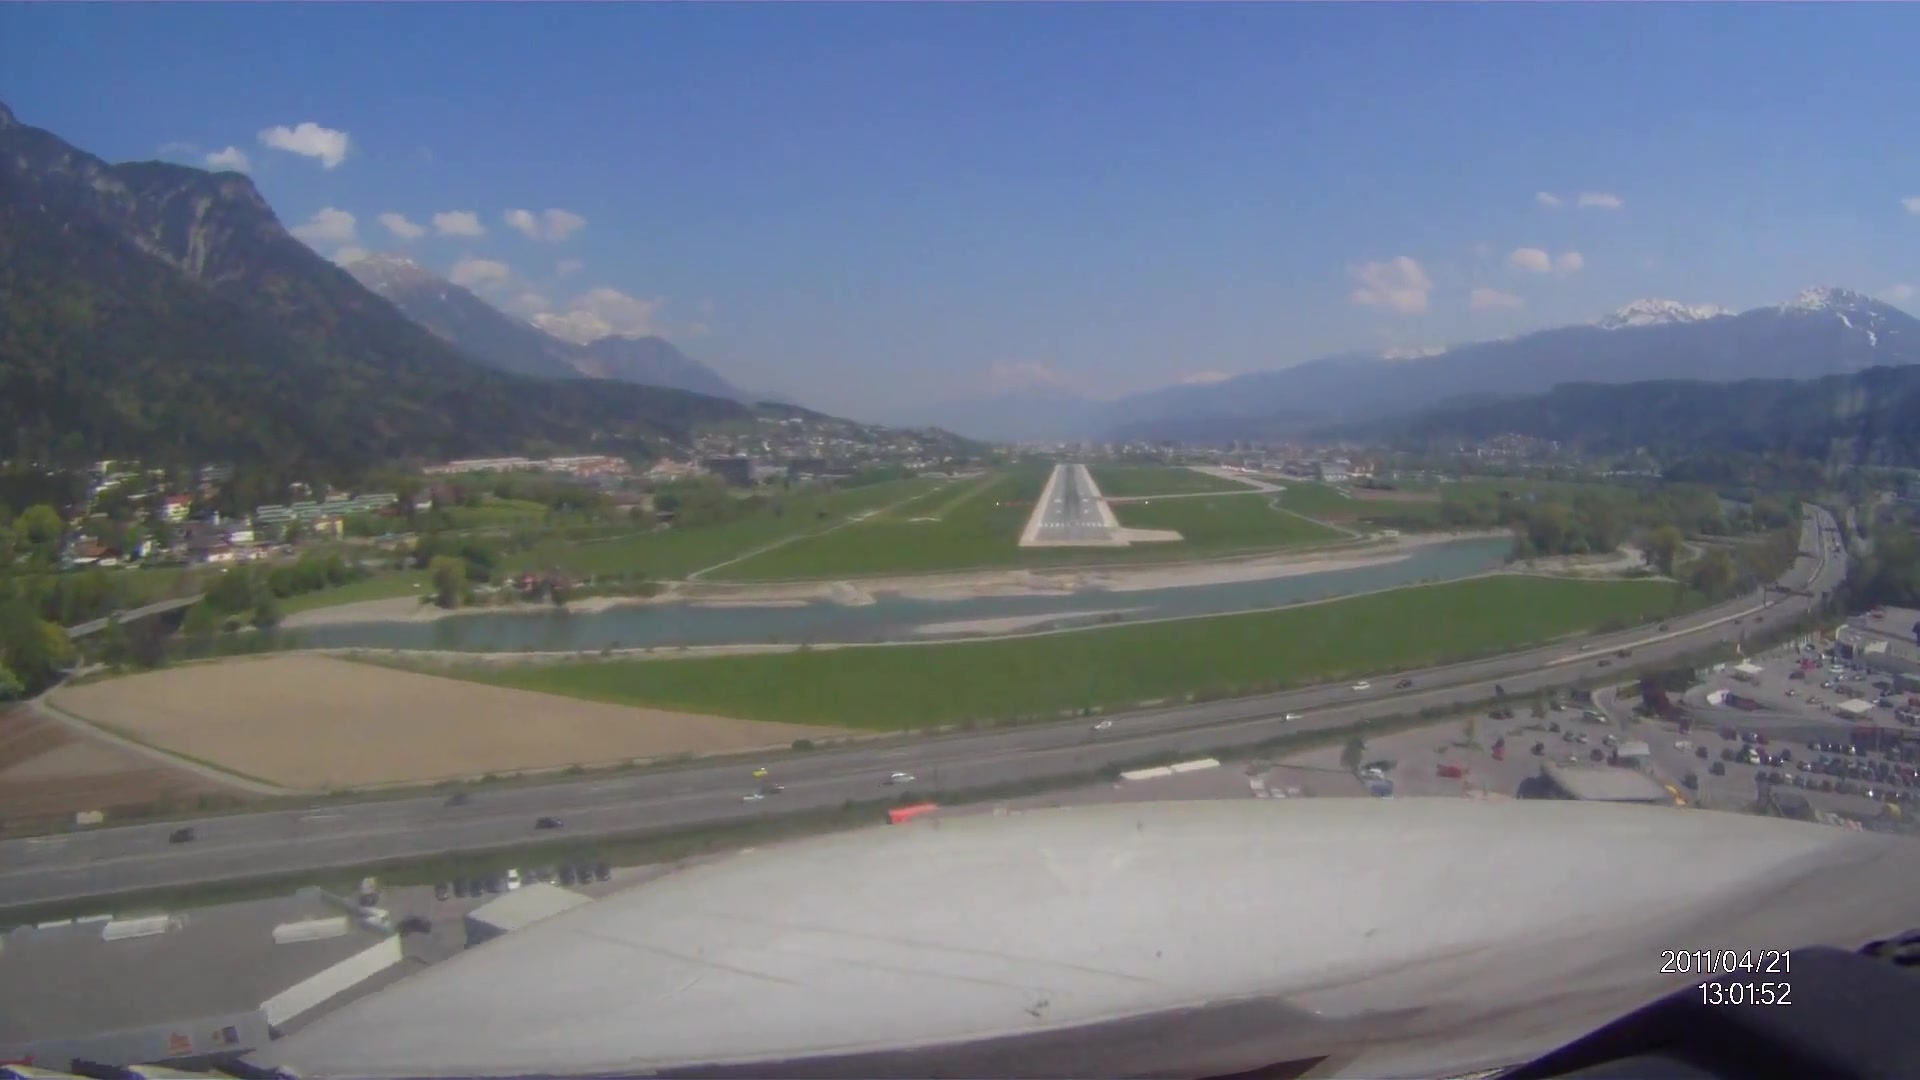entrance: (1038, 520, 1102, 529)
runway: (1036, 463, 1105, 535)
